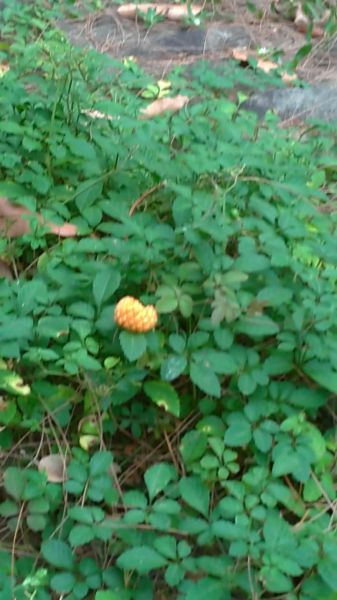eggs: (110, 294, 161, 335)
